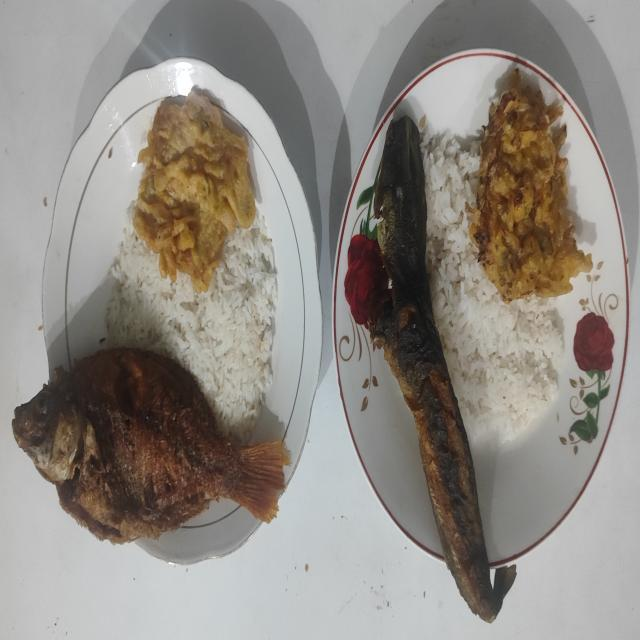ikan_mujair: (12, 348, 289, 544)
nasi_putih: (421, 134, 564, 442), (105, 219, 278, 440)
